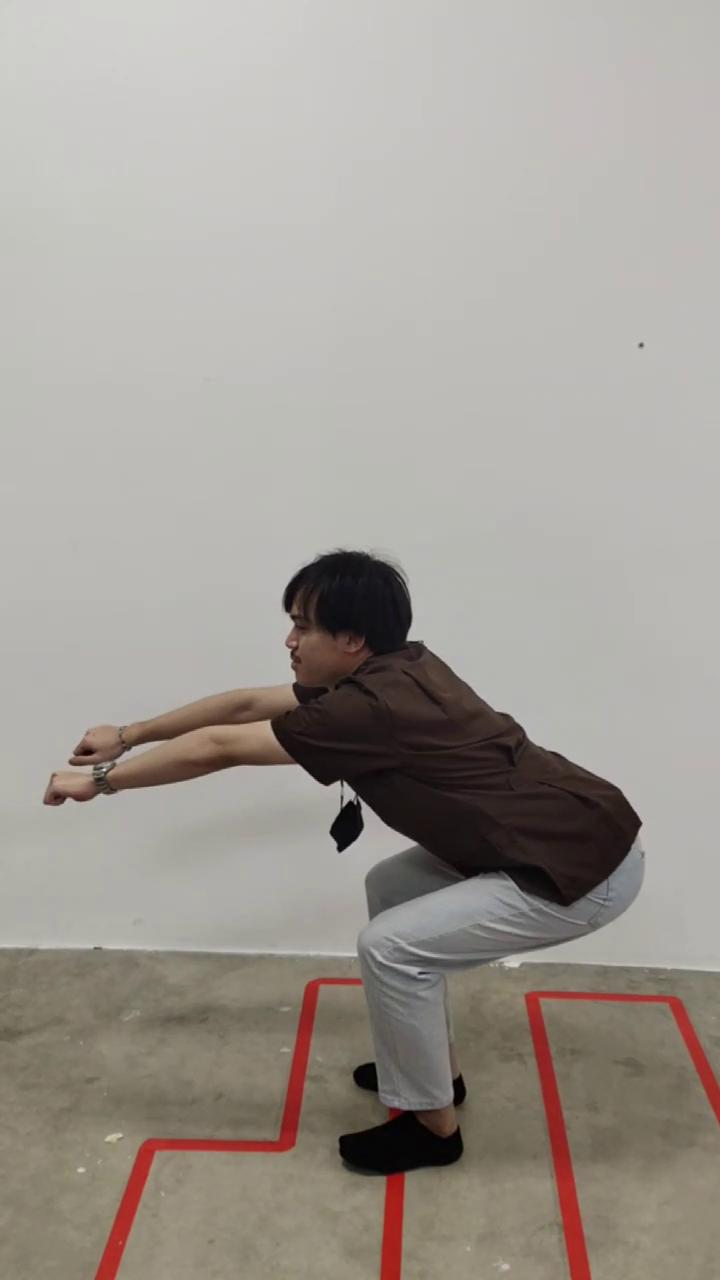squat down: (45, 550, 645, 1175)
